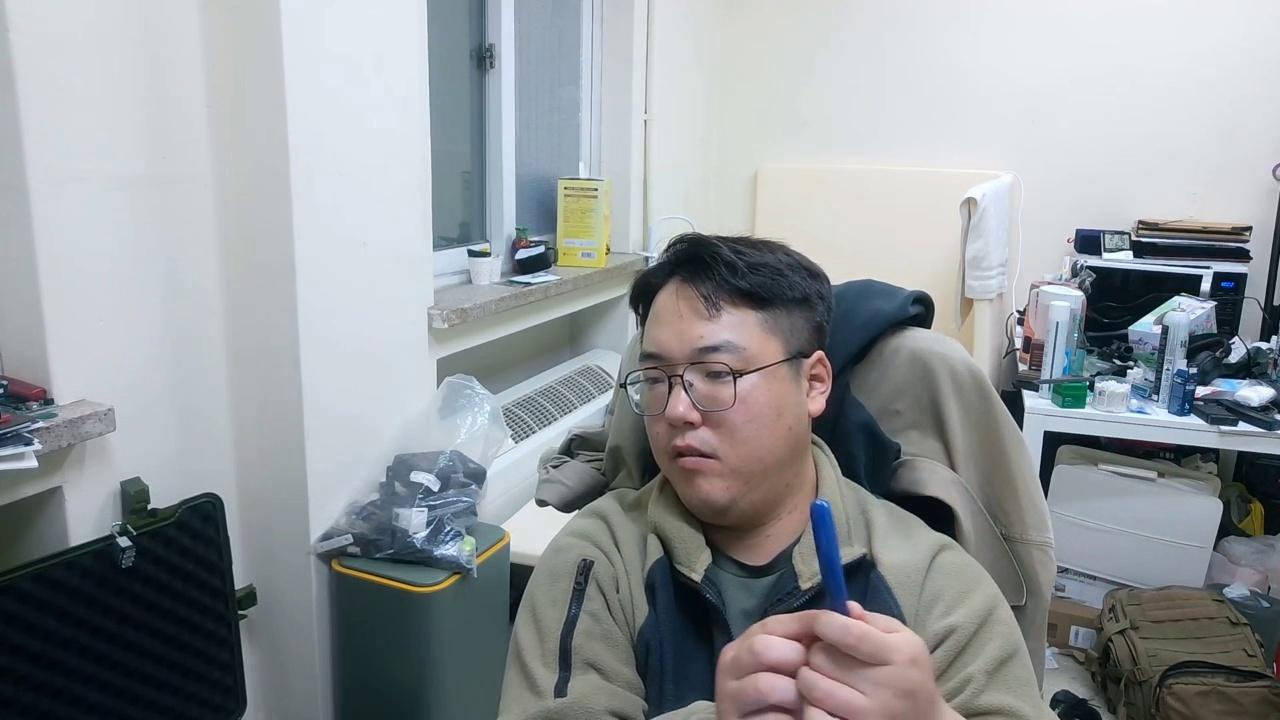blue_pliers: (808, 497, 852, 618)
